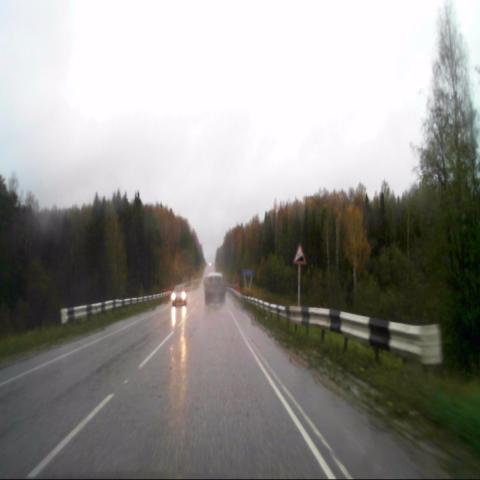1_14: (294, 242, 306, 264)
